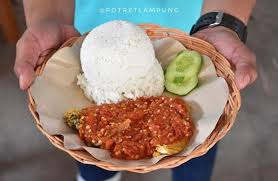ayam_geprek: (60, 66, 205, 166)
